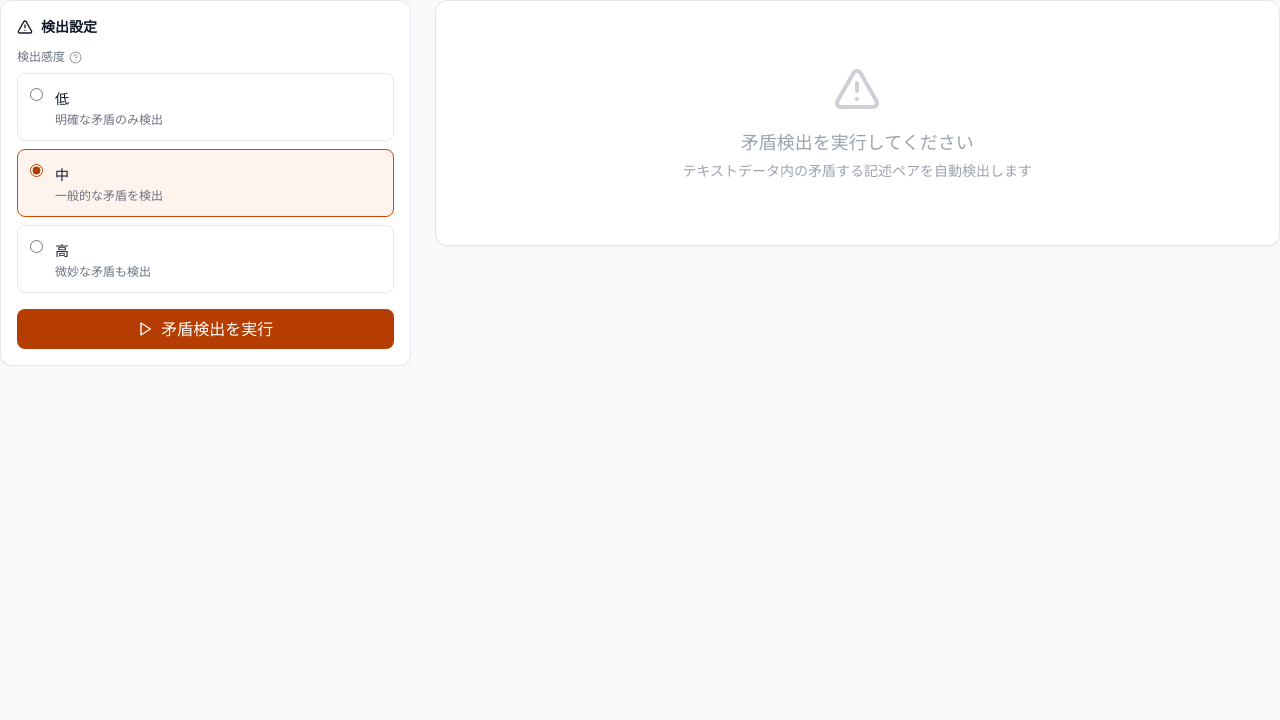
Test: ContradictionPage › 実行ボタンクリックでAPI呼出し→結果表示
Click the button "矛盾検出を実行".
click(205, 329)  # box [17,309,394,349]
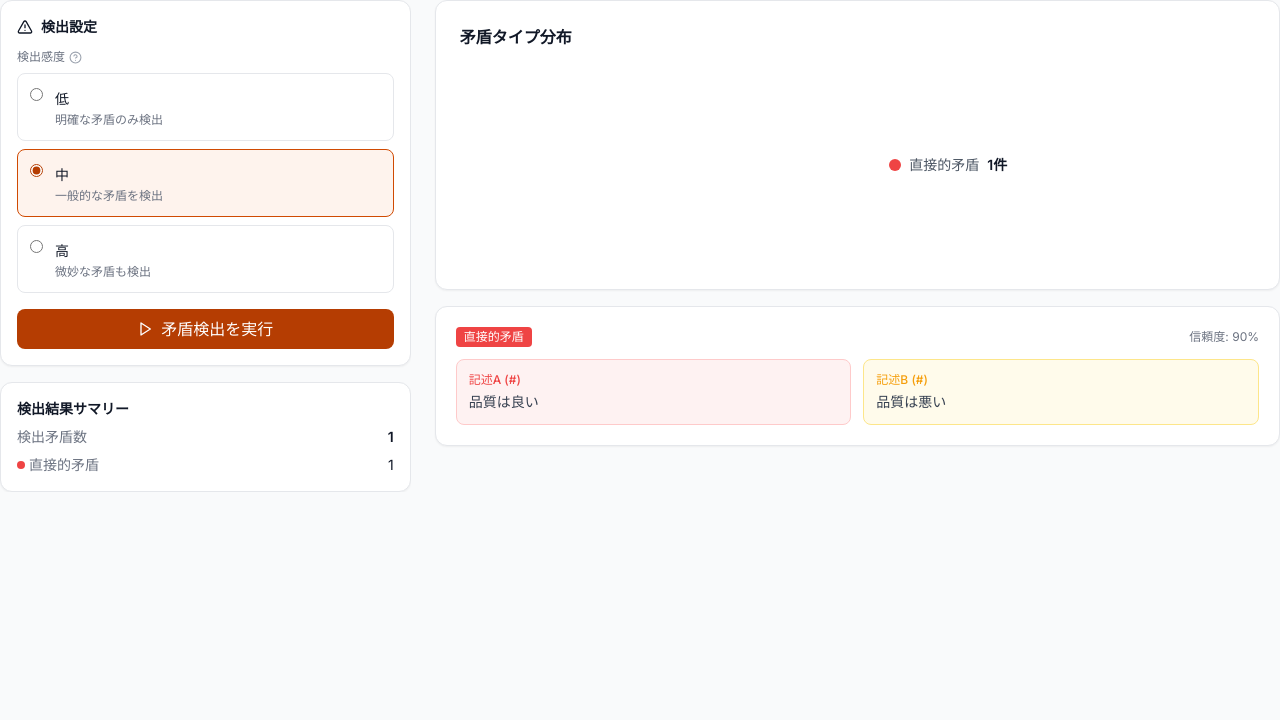
Check: the heading "検出結果サマリー" is shown, box [17,400,129,417]
